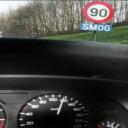speed_limit_90: (82, 2, 114, 22)
